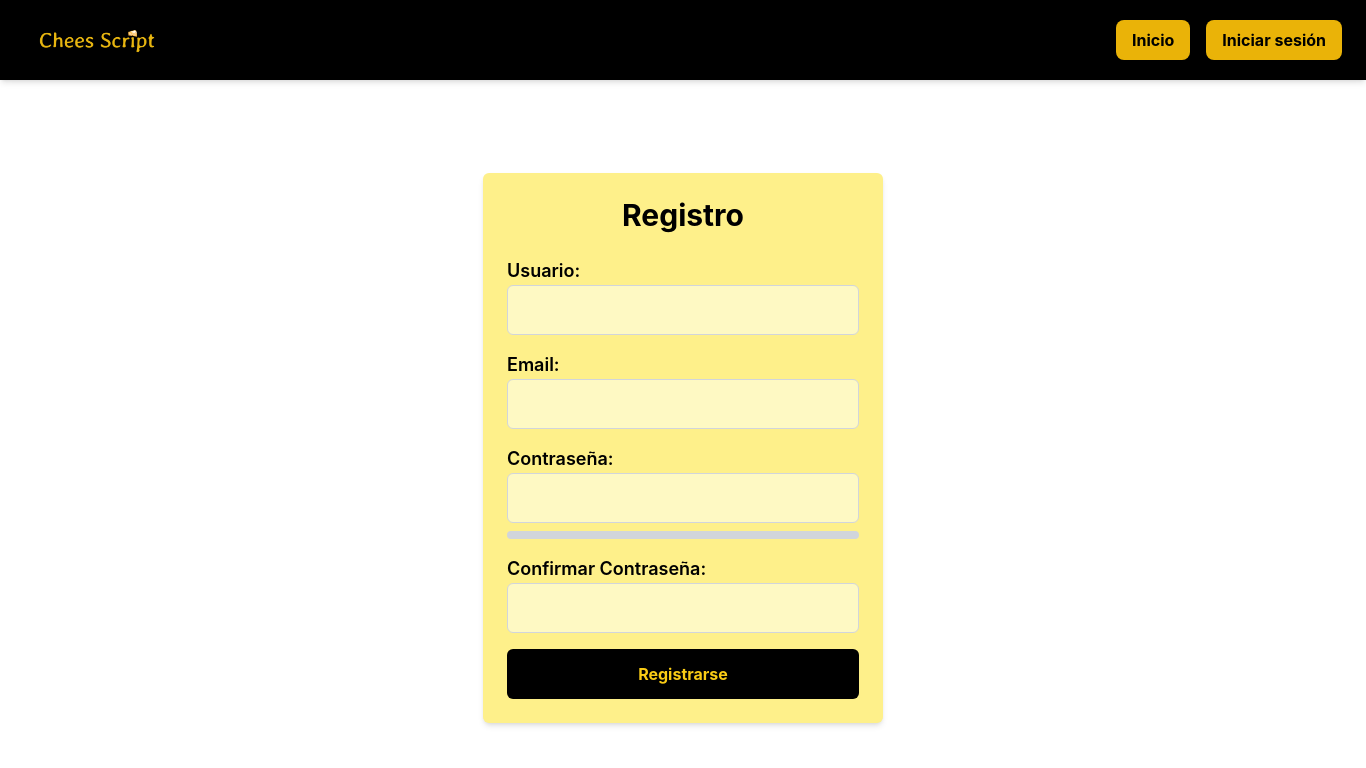
Test: Flujo de registro de Usuario › Fallo por contraseña insegura
In the field named "username" below "Usuario:": [683, 310] box [507, 285, 859, 335], type "UsuarioTest"
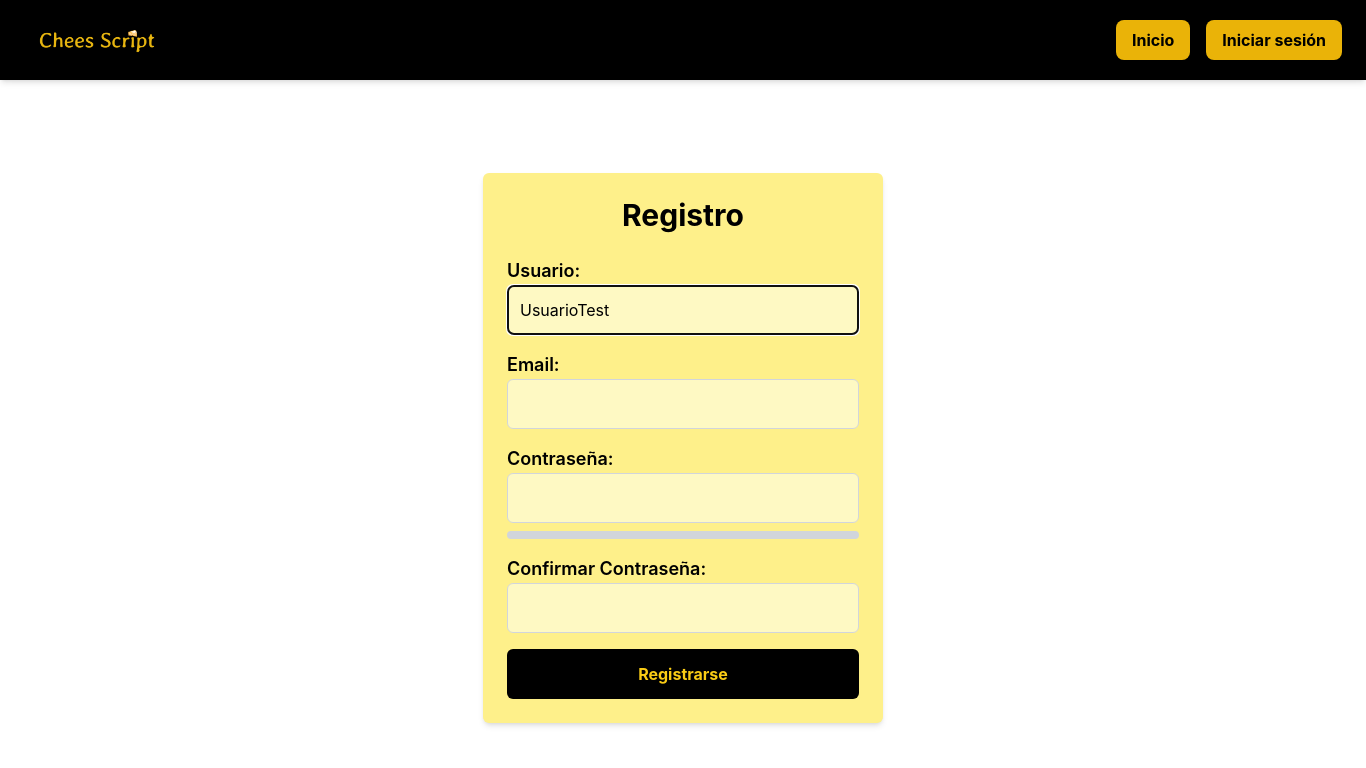
In the field named "email" below "Email:": [683, 404] box [507, 379, 859, 429], type "nuevotest@gmail.com"
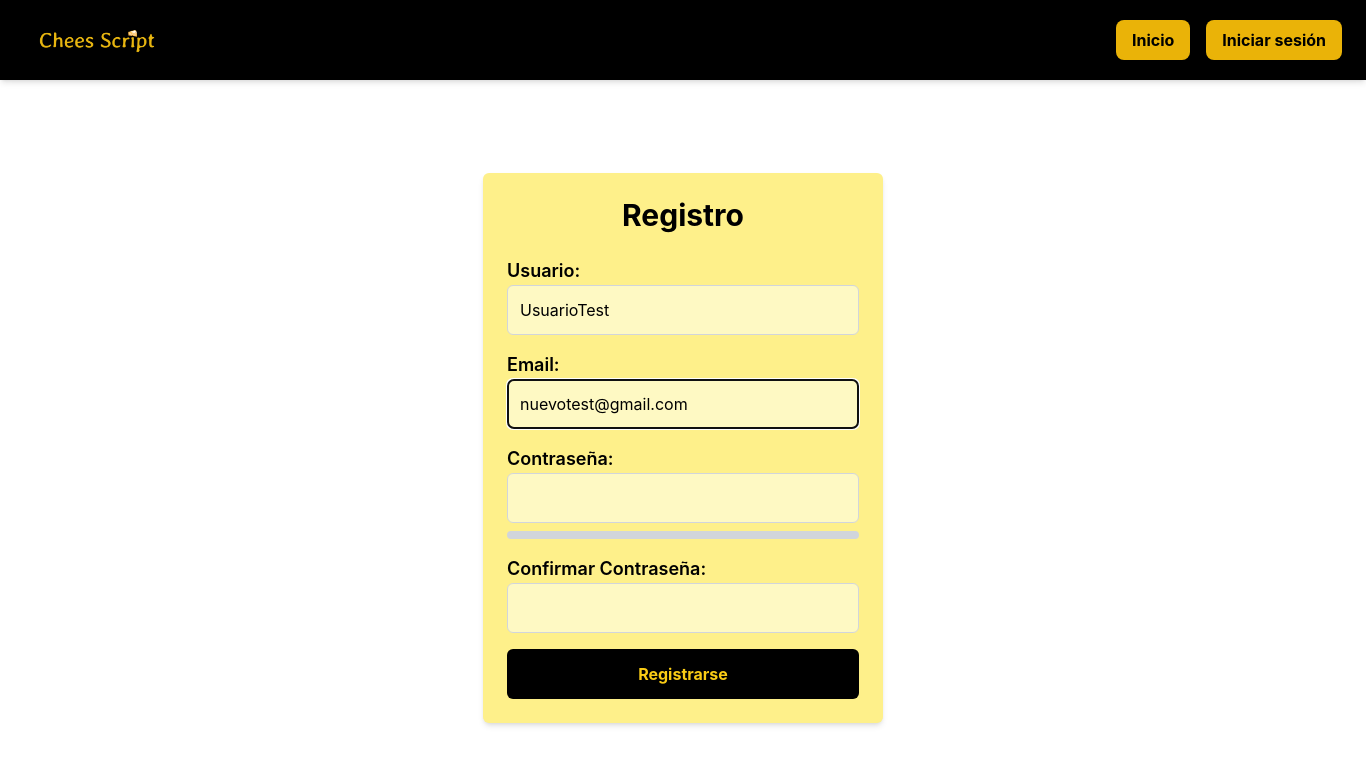
In the 1st password field named "password": [683, 498] box [507, 473, 859, 523], type "contraseñamala"
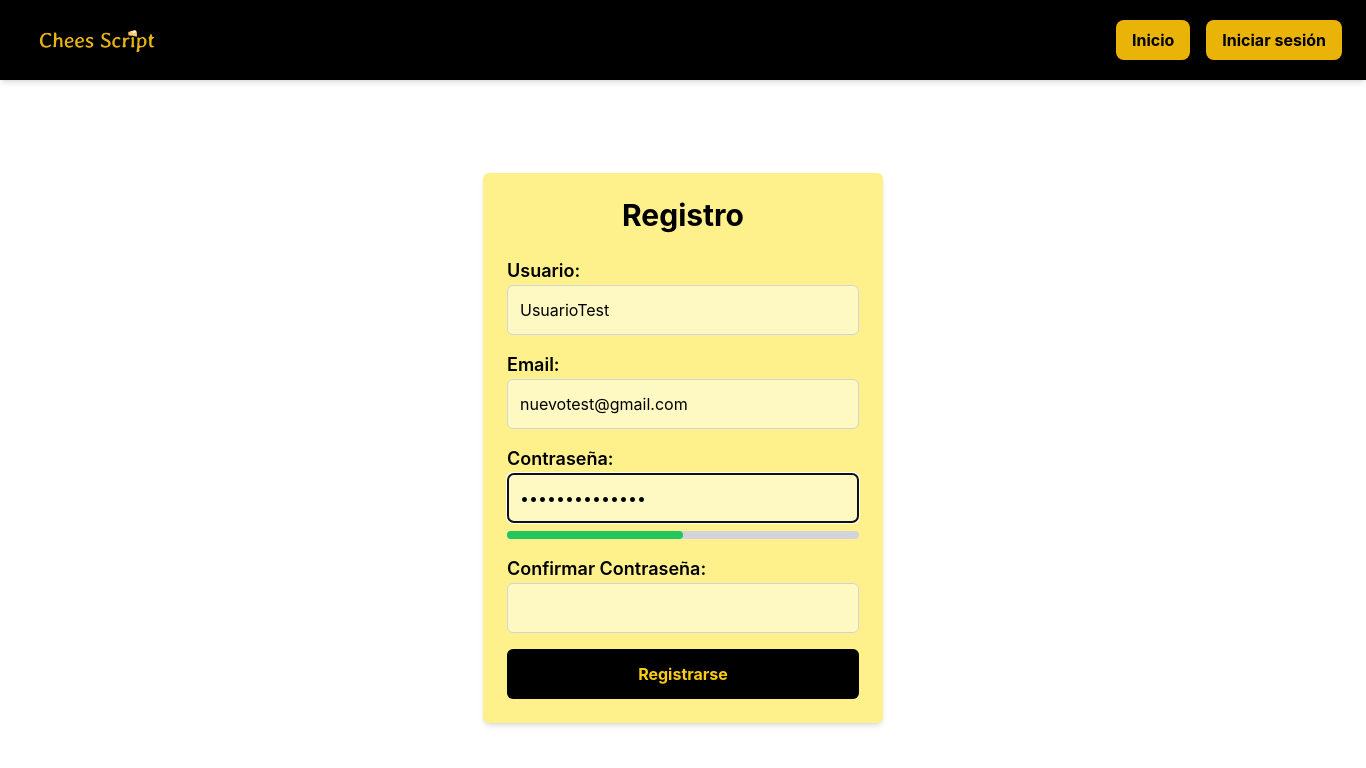
In the password field named "confirmPassword" below "Confirmar Contraseña:": [683, 608] box [507, 583, 859, 633], type "contraseñamala"
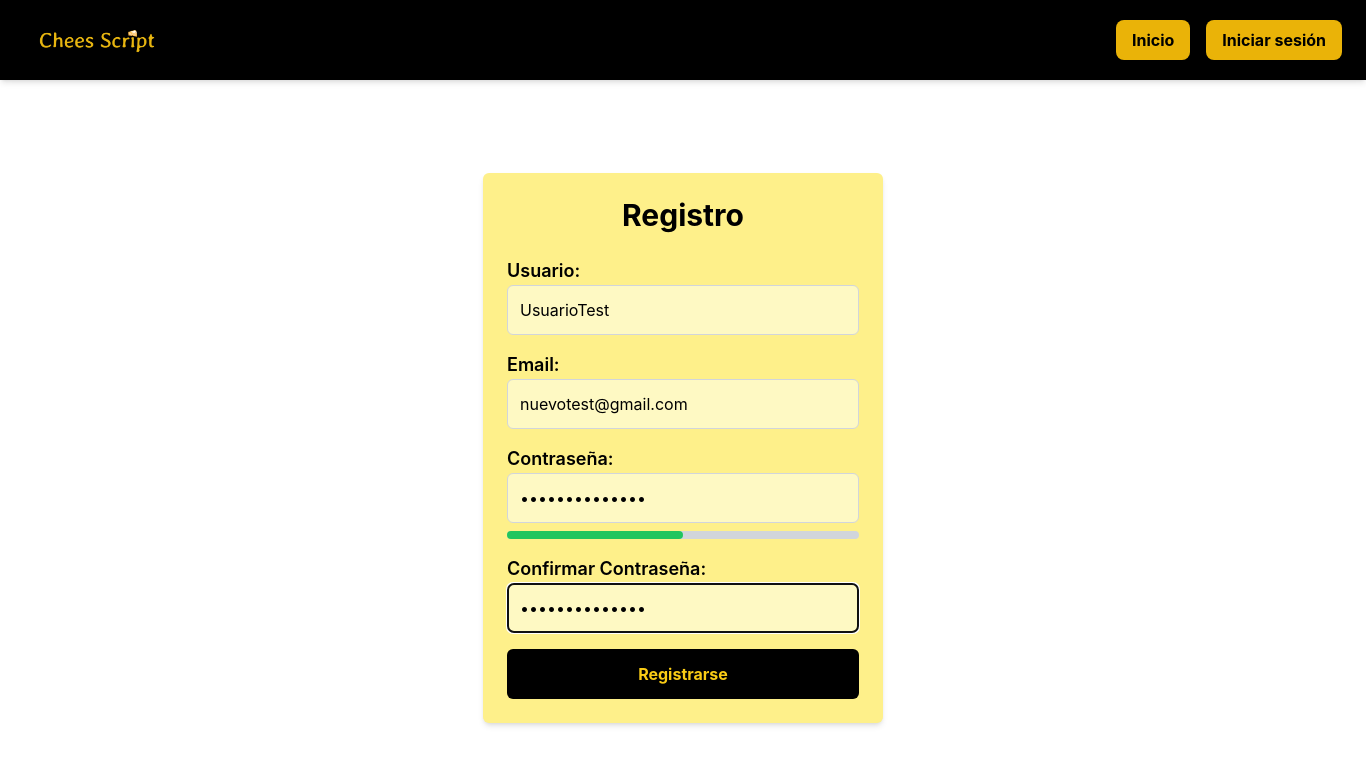
Click the submit button: [683, 674] box [507, 649, 859, 699]
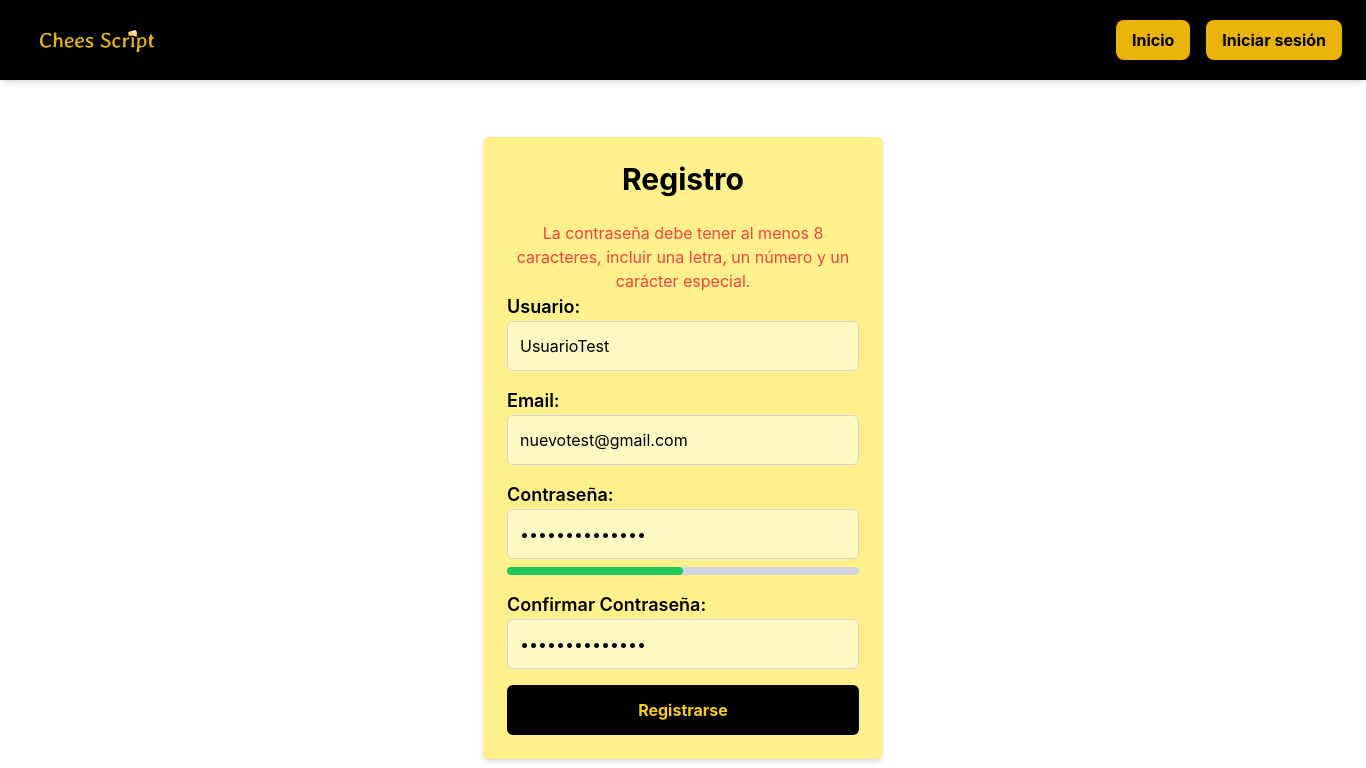
Expected: the text "La contraseña debe tener al menos 8 caracteres, incluir una letra, un número y un carácter especial." is shown, [517, 223, 850, 291]
